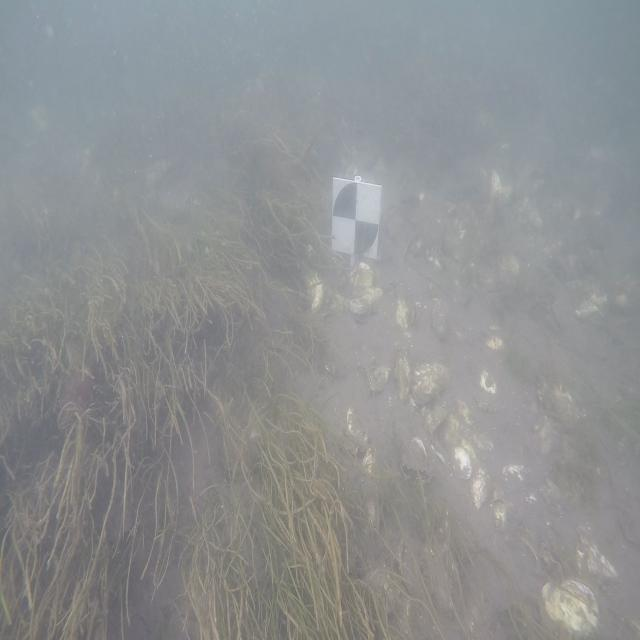Oyster- Indeterminate: (488, 457, 532, 514), (341, 406, 376, 452), (476, 370, 498, 414)
Oyster-Closed: (531, 565, 612, 640), (433, 398, 480, 450), (446, 436, 483, 482), (411, 362, 449, 406), (357, 438, 382, 476), (488, 169, 513, 205), (394, 349, 411, 400), (366, 365, 395, 394), (394, 295, 417, 330), (305, 271, 324, 313), (471, 469, 488, 509)
Oyster-Open: (349, 262, 382, 323), (399, 432, 434, 476)
